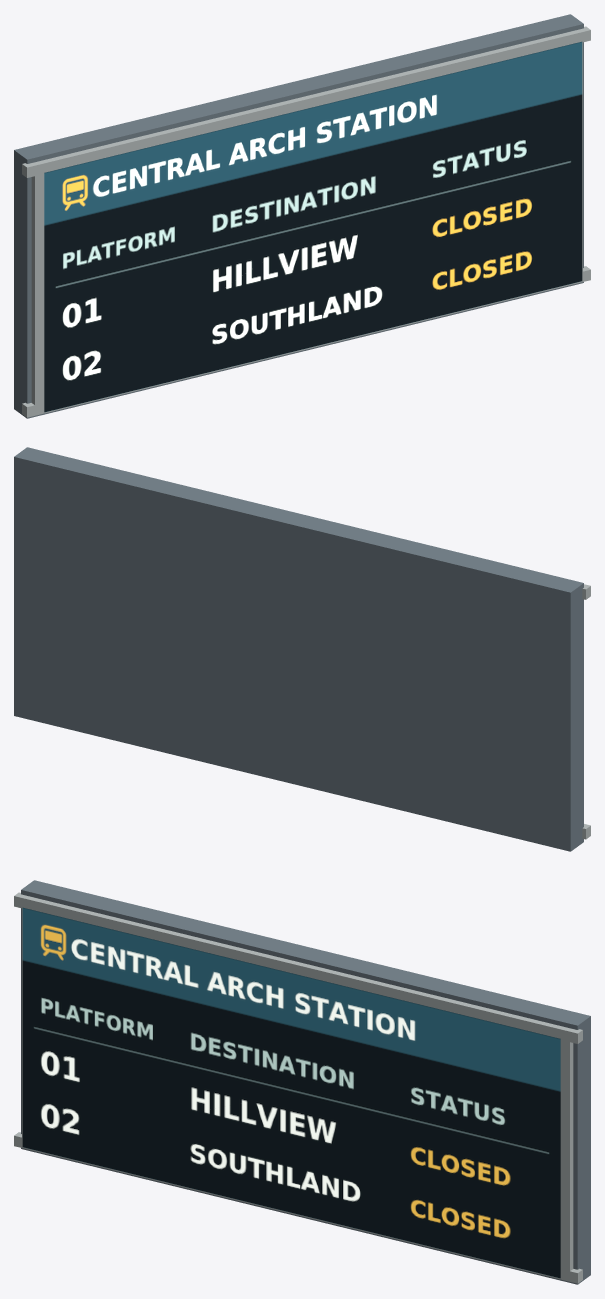
File: arrivals_board.glb
3 renders of one model, top to bottom at view 1: azimuth 30°, elevation 25°; view 2: azimuth 150°, elevation 25°; view 3: azimuth 330°, elevation 25°, orthographic.
Parts seen in each view (by area): view 1: VIS_Arrivals_RAIL_ARRIVALS, VIS_Arrivals_body, VIS_Arrivals_trim_top, VIS_Arrivals_trim_left, VIS_Arrivals_trim_bottom; view 2: VIS_Arrivals_body; view 3: VIS_Arrivals_RAIL_ARRIVALS, VIS_Arrivals_body, VIS_Arrivals_trim_top, VIS_Arrivals_trim_right, VIS_Arrivals_trim_bottom.
Boxes of the visible parts, x1,y1,x2,y2 form: VIS_Arrivals_RAIL_ARRIVALS: (44, 41, 582, 412); VIS_Arrivals_body: (14, 14, 583, 418); VIS_Arrivals_trim_top: (22, 26, 590, 177); VIS_Arrivals_trim_left: (31, 164, 44, 414); VIS_Arrivals_trim_bottom: (22, 266, 590, 417); VIS_Arrivals_body: (14, 447, 583, 851); VIS_Arrivals_RAIL_ARRIVALS: (22, 907, 560, 1278); VIS_Arrivals_body: (21, 880, 590, 1284); VIS_Arrivals_trim_top: (14, 892, 582, 1043); VIS_Arrivals_trim_right: (560, 1032, 573, 1276); VIS_Arrivals_trim_bottom: (14, 1132, 582, 1283).
Size of the model in its own units: 1.97 by 0.865 by 0.127.
3 materials, 1 textured.
